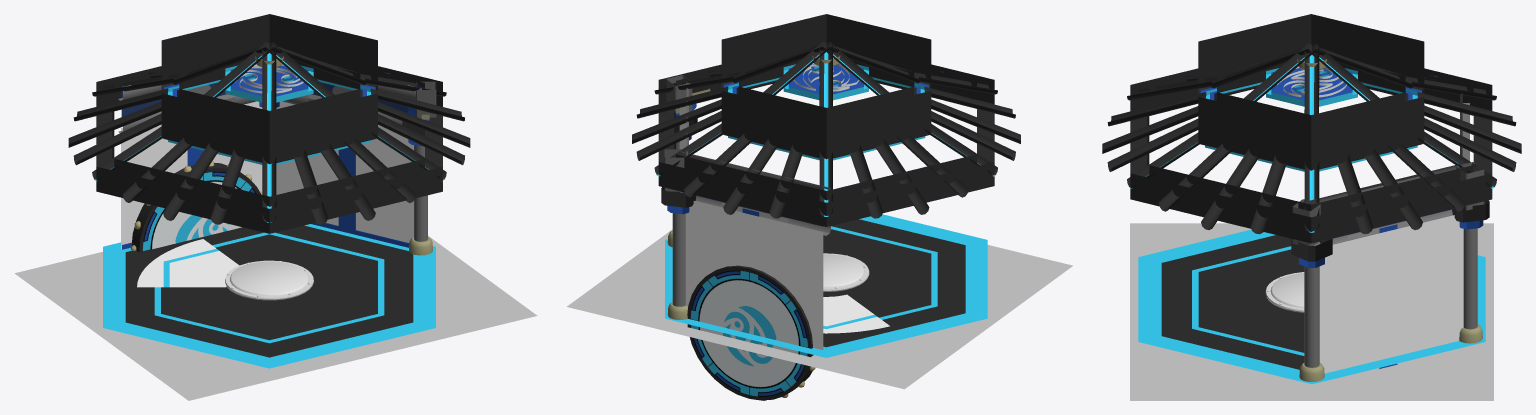
The model's file is stage2boss.fbx.
3 views of the same model, side by side, from view 1: azimuth 30°, elevation 25°; view 2: azimuth 150°, elevation 25°; view 3: azimuth 270°, elevation 25° (orthographic). The views are drawn at different scales.
Parts seen in each view (by area): view 1: Stage2_bossroof, bossfloor, Plane009, Stage2_bosswal001, Stage2_bosswal, boss_walldrum, bossfloor_lightplace, bossdrum_low; view 2: Stage2_bossroof, bossfloor, Plane009, Stage2_bosswal, boss_walldrum, bossfloor_lightplace, bossdrum_low, Stage2_bosswal001; view 3: Stage2_bossroof, Stage2_bosswal001, bossfloor, Plane009, Stage2_bosswal, bossdrum_low.
Boxes of the visible parts, left/top/right/bottom form: Stage2_bossroof: left=68, top=14, right=470, bottom=233; bossfloor: left=103, top=224, right=435, bottom=368; Plane009: left=15, top=236, right=537, bottom=400; Stage2_bosswal001: left=276, top=81, right=436, bottom=255; Stage2_bosswal: left=118, top=82, right=279, bottom=249; boss_walldrum: left=130, top=161, right=262, bottom=252; bossfloor_lightplace: left=137, top=239, right=239, bottom=287; bossdrum_low: left=225, top=260, right=313, bottom=300; Stage2_bossroof: left=632, top=14, right=1020, bottom=226; bossfloor: left=665, top=214, right=987, bottom=357; Plane009: left=567, top=229, right=1072, bottom=389; Stage2_bosswal: left=661, top=149, right=830, bottom=349; boss_walldrum: left=687, top=265, right=815, bottom=400; bossfloor_lightplace: left=823, top=294, right=889, bottom=333; bossdrum_low: left=823, top=253, right=869, bottom=291; Stage2_bosswal001: left=666, top=75, right=710, bottom=247; Stage2_bossroof: left=1102, top=14, right=1521, bottom=243; Stage2_bosswal001: left=1291, top=162, right=1465, bottom=381; bossfloor: left=1138, top=229, right=1485, bottom=384; Plane009: left=1130, top=223, right=1493, bottom=400; Stage2_bosswal: left=1452, top=88, right=1489, bottom=343; bossdrum_low: left=1265, top=272, right=1304, bottom=312.
Size of what is drawn, in the model's own units: 2342 by 1972 by 2295.
